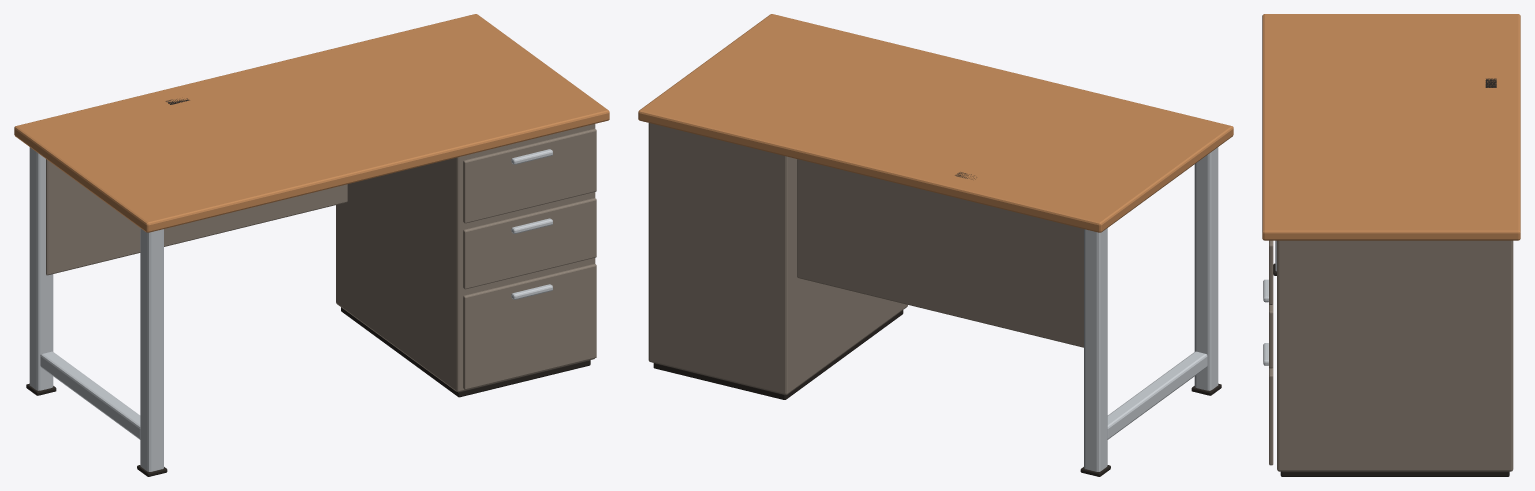
The model's file is hh_cat_desk_v.glb.
3 renders of one model, left to right at view 1: azimuth 30°, elevation 25°; view 2: azimuth 150°, elevation 25°; view 3: azimuth 270°, elevation 25°, orthographic. The views are drawn at different scales.
Parts seen in each view (by area): view 1: desk_surface, pedestal, drawer_front, modesty_panel, drawer_front.002, drawer_front.001, desk_leg, desk_leg.001, leg_rail, plinth; view 2: desk_surface, pedestal, modesty_panel, desk_leg.001, desk_leg, leg_rail, plinth; view 3: desk_surface, pedestal, plinth, drawer_front, drawer_front.002, drawer_front.001.
Boxes of the visible parts, box(x1,y1,x2,y2) form: desk_surface: box(14, 14, 609, 232); pedestal: box(336, 124, 595, 392); drawer_front: box(463, 264, 596, 389); modesty_panel: box(46, 159, 347, 275); drawer_front.002: box(463, 128, 596, 223); drawer_front.001: box(463, 198, 596, 289); desk_leg: box(140, 228, 163, 471); desk_leg.001: box(29, 147, 53, 390); leg_rail: box(40, 351, 140, 439); plinth: box(341, 307, 590, 397); desk_surface: box(638, 14, 1233, 232); pedestal: box(648, 123, 907, 394); modesty_panel: box(797, 159, 1083, 347); desk_leg.001: box(1084, 228, 1107, 471); desk_leg: box(1194, 147, 1218, 390); leg_rail: box(1107, 351, 1207, 439); plinth: box(653, 310, 903, 399); desk_surface: box(1262, 14, 1520, 240); pedestal: box(1277, 240, 1513, 471); plinth: box(1280, 471, 1509, 476); drawer_front: box(1269, 367, 1273, 465); drawer_front.002: box(1269, 240, 1273, 304); drawer_front.001: box(1269, 304, 1273, 368).
Bounding box in the file's own units: 1.4 × 0.75 × 0.7.
